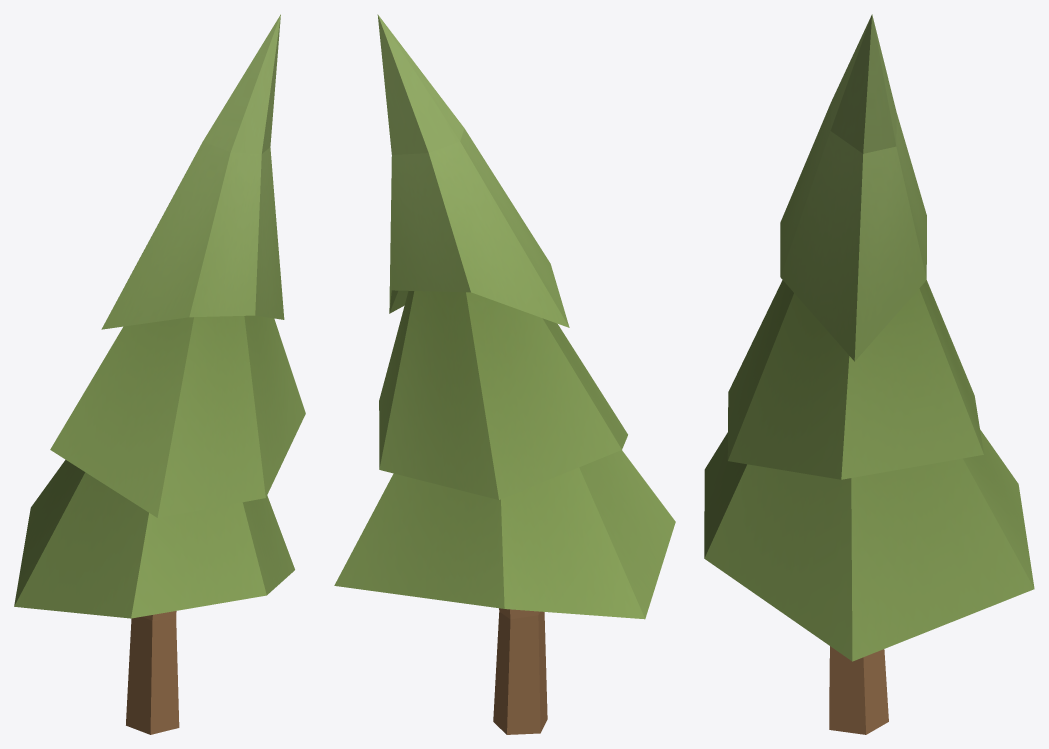
The model's file is Pine_Tree_s_BT_05.fbx.
3 renders of one model, left to right at view 1: azimuth 30°, elevation 25°; view 2: azimuth 150°, elevation 25°; view 3: azimuth 270°, elevation 25°, orthographic. The views are drawn at different scales.
Parts seen in each view (by area): view 1: Pine_Tree_s_BT_05; view 2: Pine_Tree_s_BT_05; view 3: Pine_Tree_s_BT_05.
Part boxes in pixels (x1=…): Pine_Tree_s_BT_05: x1=14, y1=14, x2=305, y2=734; Pine_Tree_s_BT_05: x1=334, y1=14, x2=675, y2=734; Pine_Tree_s_BT_05: x1=704, y1=14, x2=1034, y2=734.
Bounding box in the file's own units: 129 × 299 × 114.
